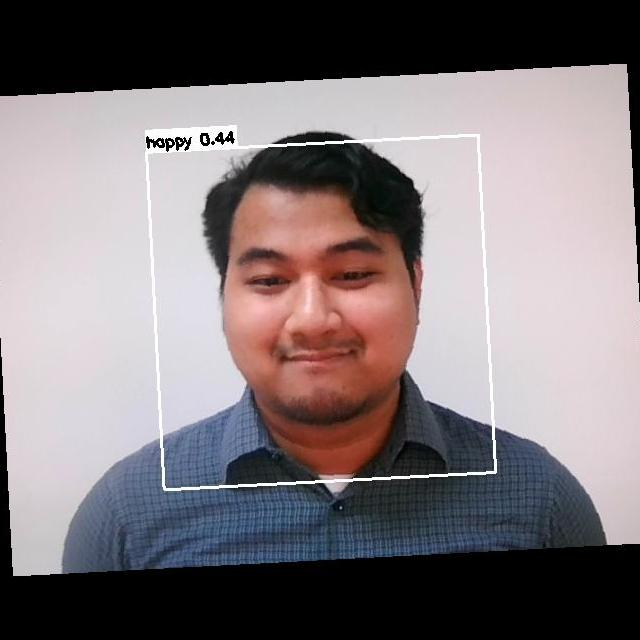Happy: (205, 200, 417, 405)
